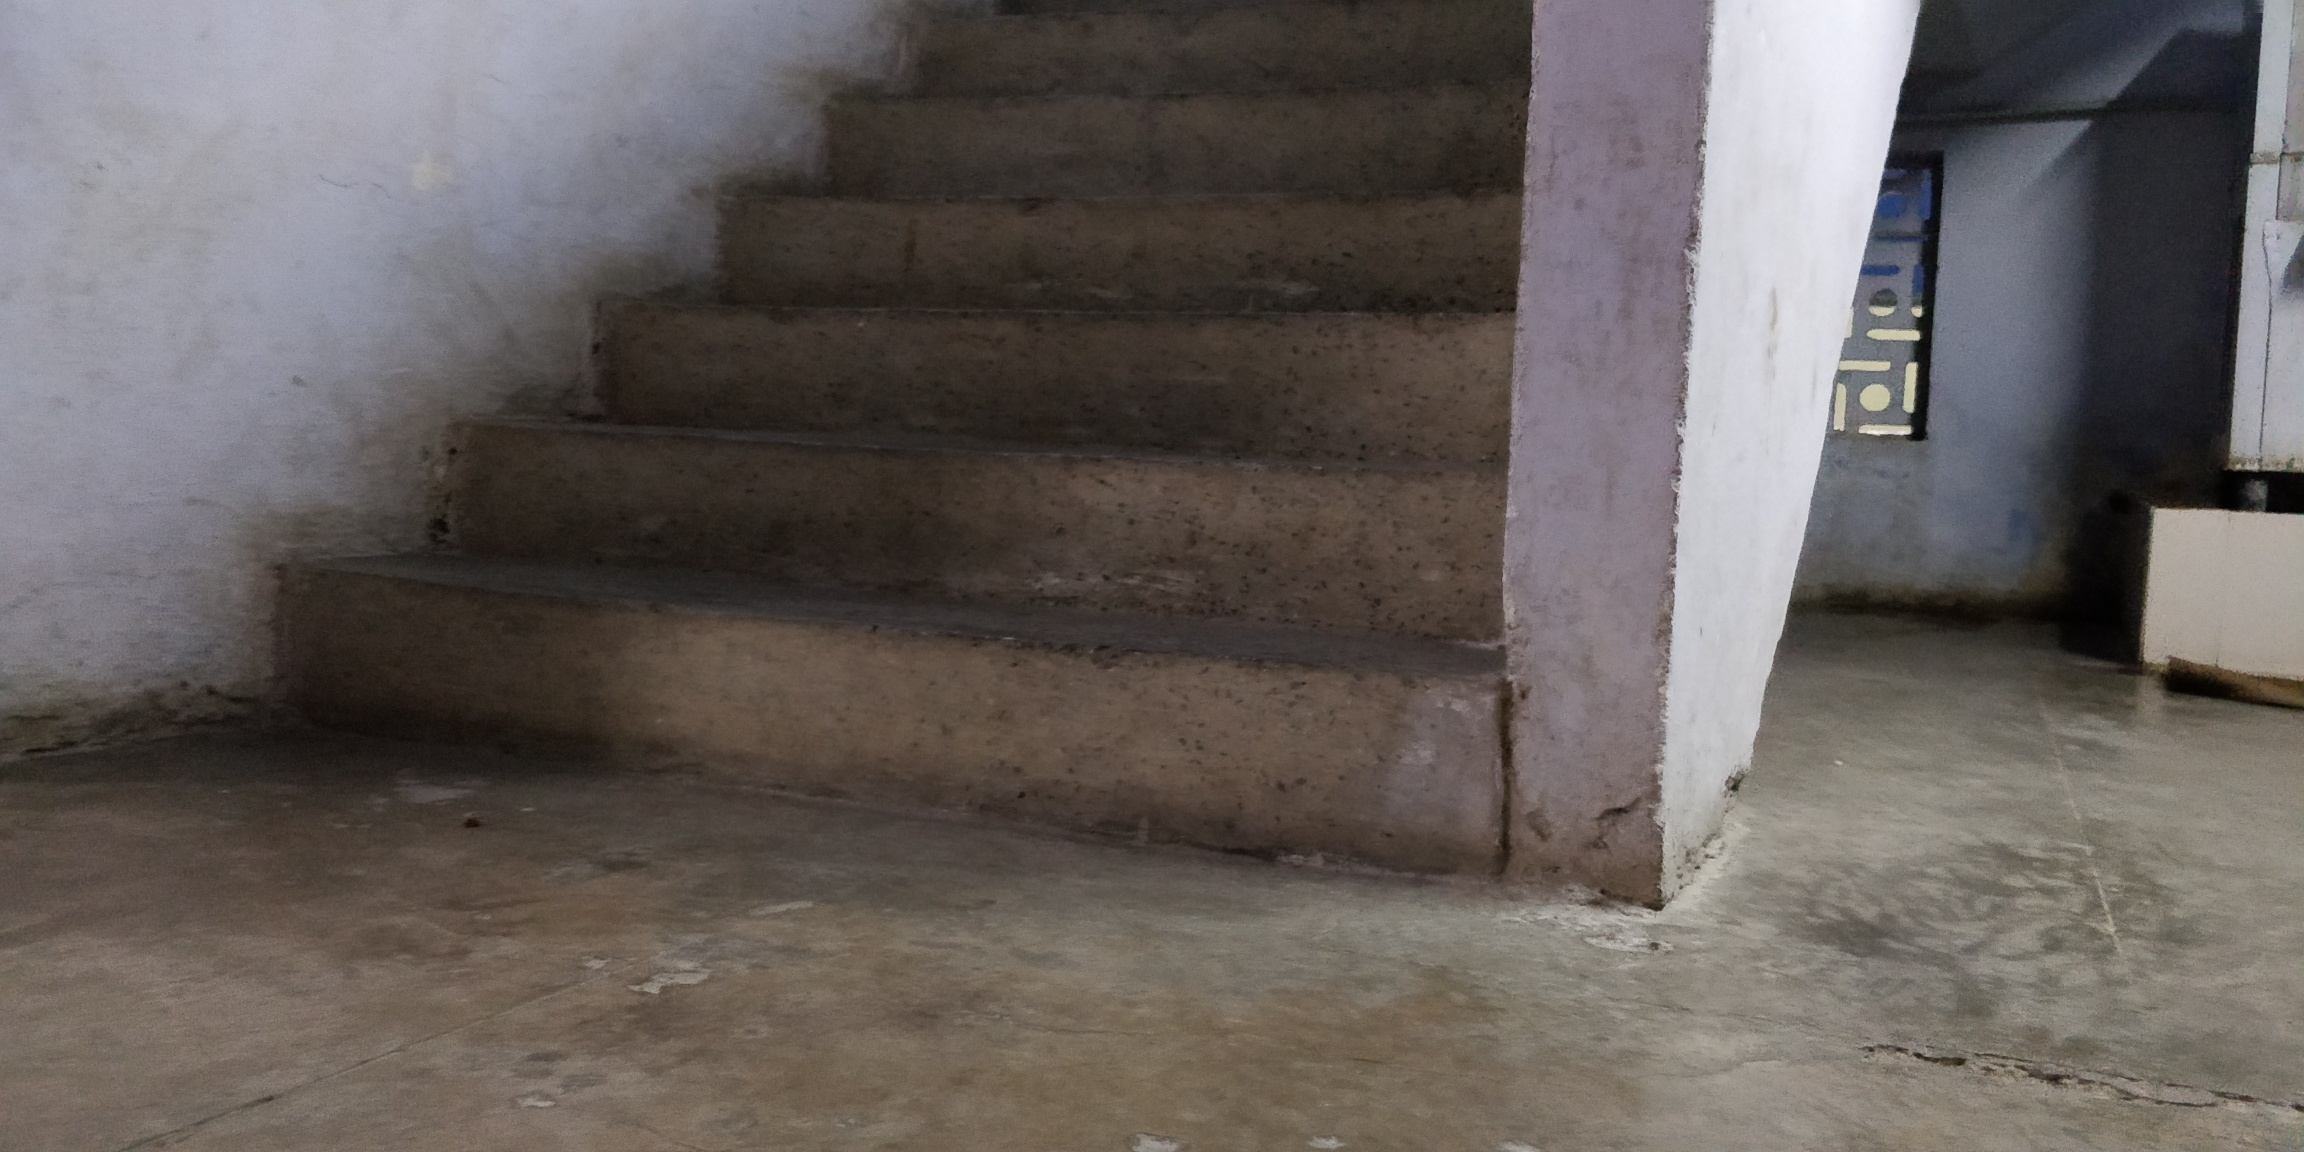stairs_up: (238, 16, 1516, 883)
